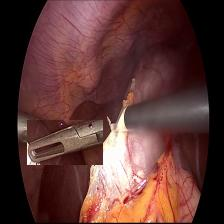Grasper: (28, 120, 104, 165)
Hook: (106, 105, 130, 136)
